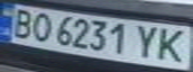1: (106, 20, 130, 56)
2: (69, 16, 90, 51)
3: (87, 18, 109, 53)
6: (51, 14, 75, 47)
B: (6, 7, 39, 38)
K: (151, 26, 193, 64)
O: (27, 10, 57, 43)
Y: (130, 22, 163, 60)
